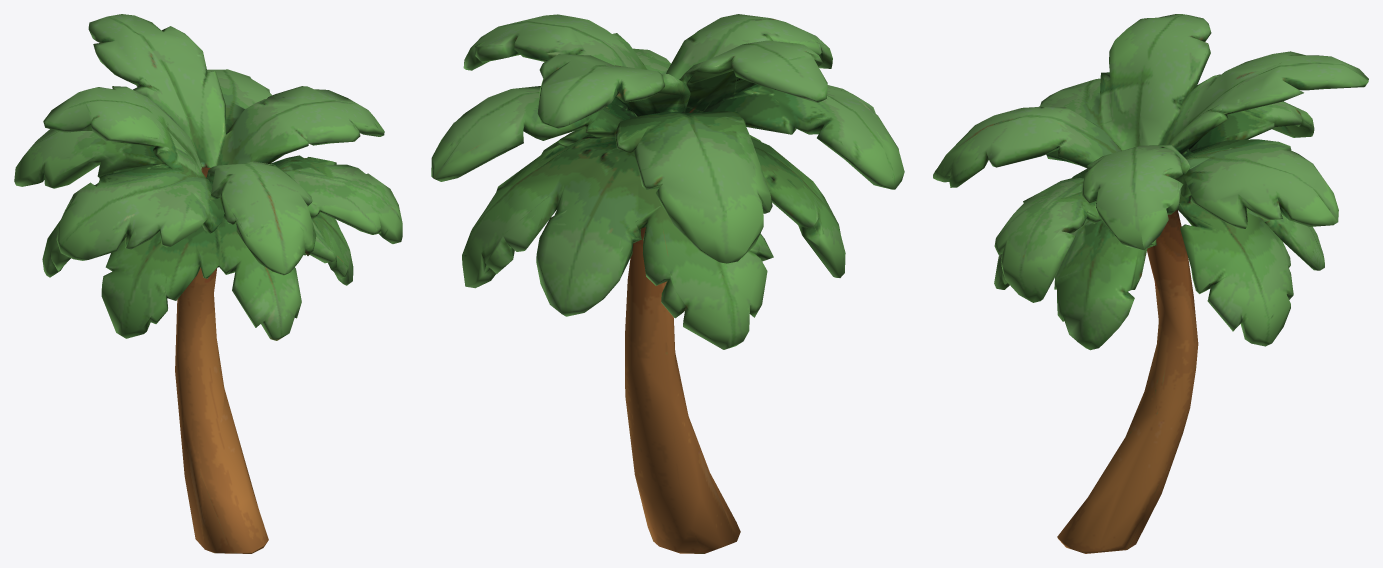
The model's file is palm.glb.
3 renders of one model, left to right at view 1: azimuth 30°, elevation 25°; view 2: azimuth 150°, elevation 25°; view 3: azimuth 270°, elevation 25°, orthographic. The views are drawn at different scales.
Visible parts, largest first — view 1: Mesh1.0; view 2: Mesh1.0; view 3: Mesh1.0.
Part boxes in pixels (x1=…): Mesh1.0: x1=14, y1=14, x2=402, y2=553; Mesh1.0: x1=431, y1=14, x2=904, y2=553; Mesh1.0: x1=933, y1=14, x2=1368, y2=553.
Bounding box in the file's own units: 1.49 × 1.91 × 1.59.
1 material, 1 textured.
